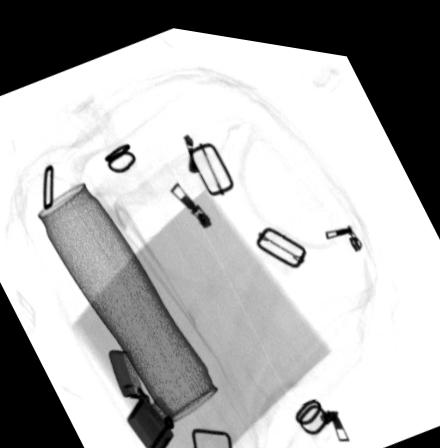Lighter: (106, 342, 176, 448)
